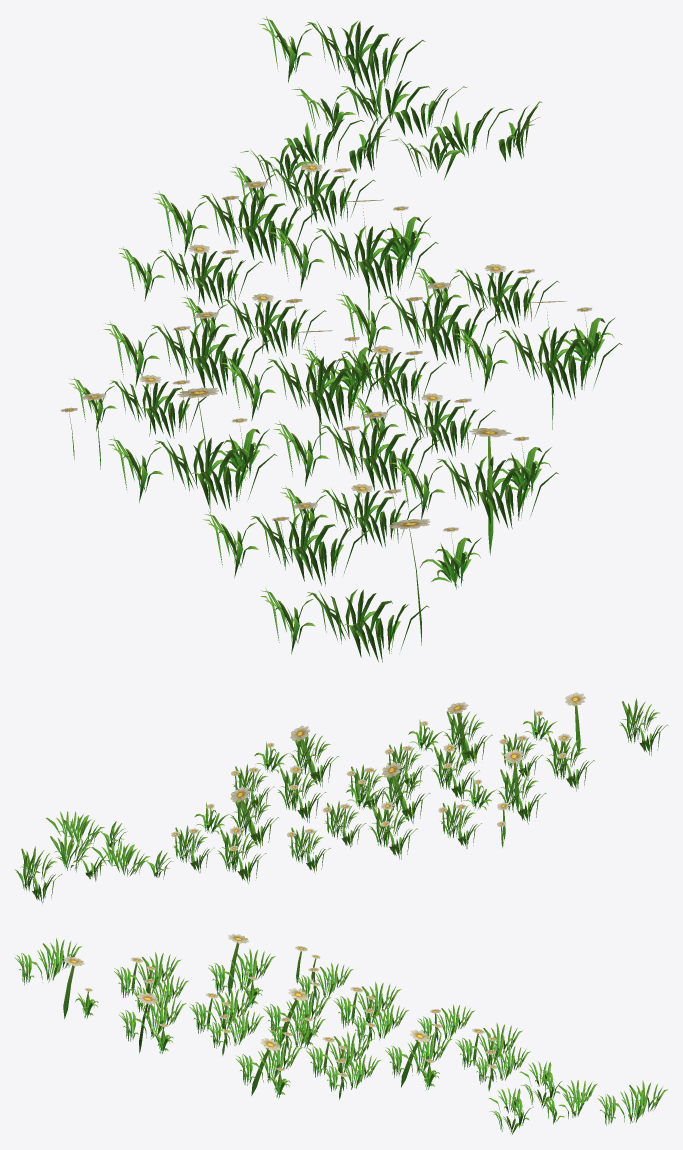
Rendered from huahua_04.fbx.
The picture shows the model from 3 angles, top to bottom: view 1: azimuth 30°, elevation 25°; view 2: azimuth 150°, elevation 25°; view 3: azimuth 270°, elevation 25°; orthographic projection. The views are drawn at different scales.
Parts seen in each view (by area): view 1: polySurface6578; view 2: polySurface6578; view 3: polySurface6578.
Part boxes in pixels (bbox=[...]): polySurface6578: bbox=[60, 16, 621, 662]; polySurface6578: bbox=[14, 692, 668, 903]; polySurface6578: bbox=[14, 934, 668, 1134].
Bounding box in the file's own units: 1471 × 273 × 2277.
